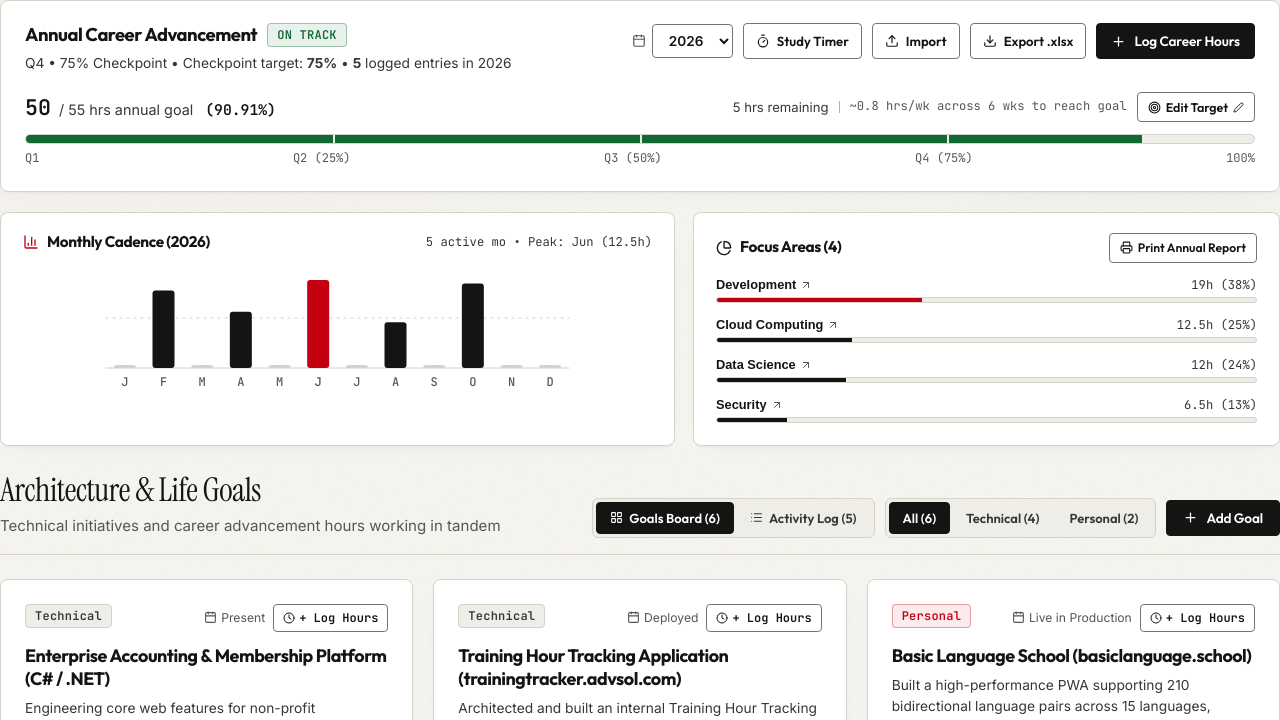
Career Advancement Integration & Tandem Goals › GoalsSection and ProfileEditModal UI components › renders + Log Hours and entry actions when canEdit is true and pre-selects linked goal
This screenshot has width=1280, height=720.
Later steps or results of the test are not shown.
Click the button "+ Log Hours" next to "Present". click: (331, 618)
box: x1=273 y1=604 x2=388 y2=632
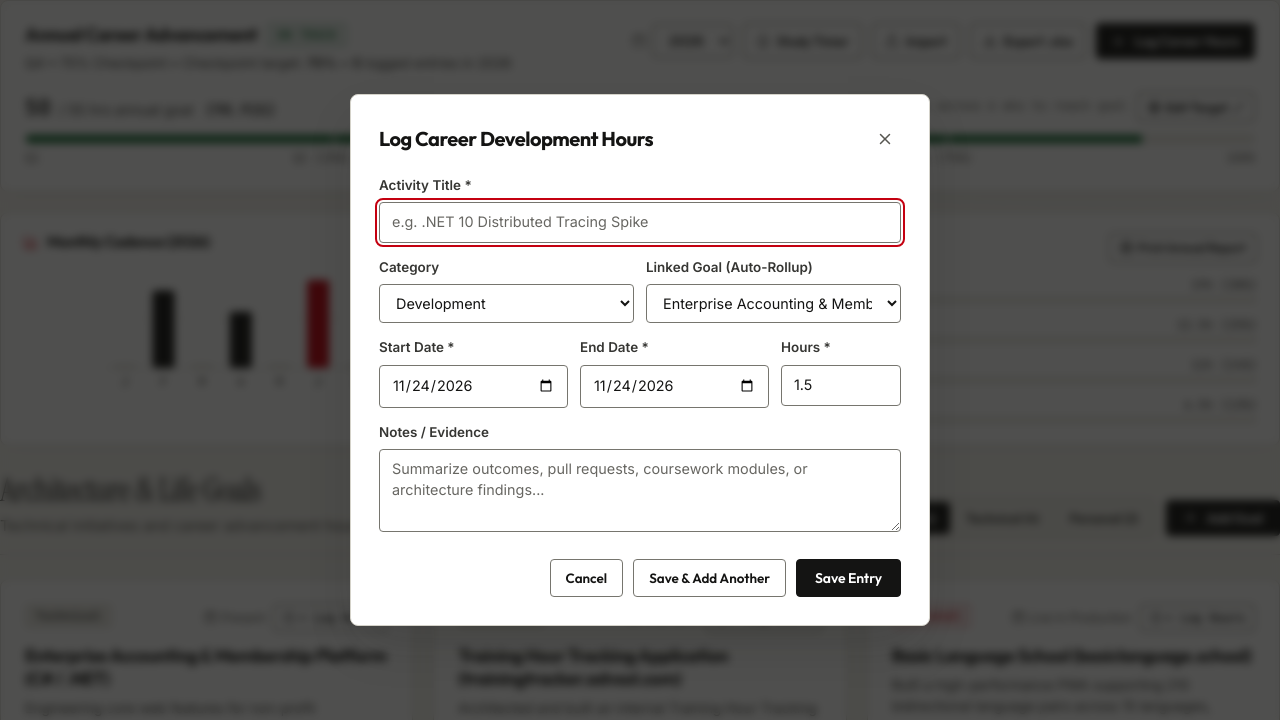
Expected: the heading "Log Career Development Hours" is shown, x1=379 y1=126 x2=653 y2=150
Expected: the dropdown labelled "Linked Goal (Auto-Rollup)" shows "Enterprise Accounting & Membership Platform (C# / .NET) (20h target)", x1=646 y1=284 x2=901 y2=323
